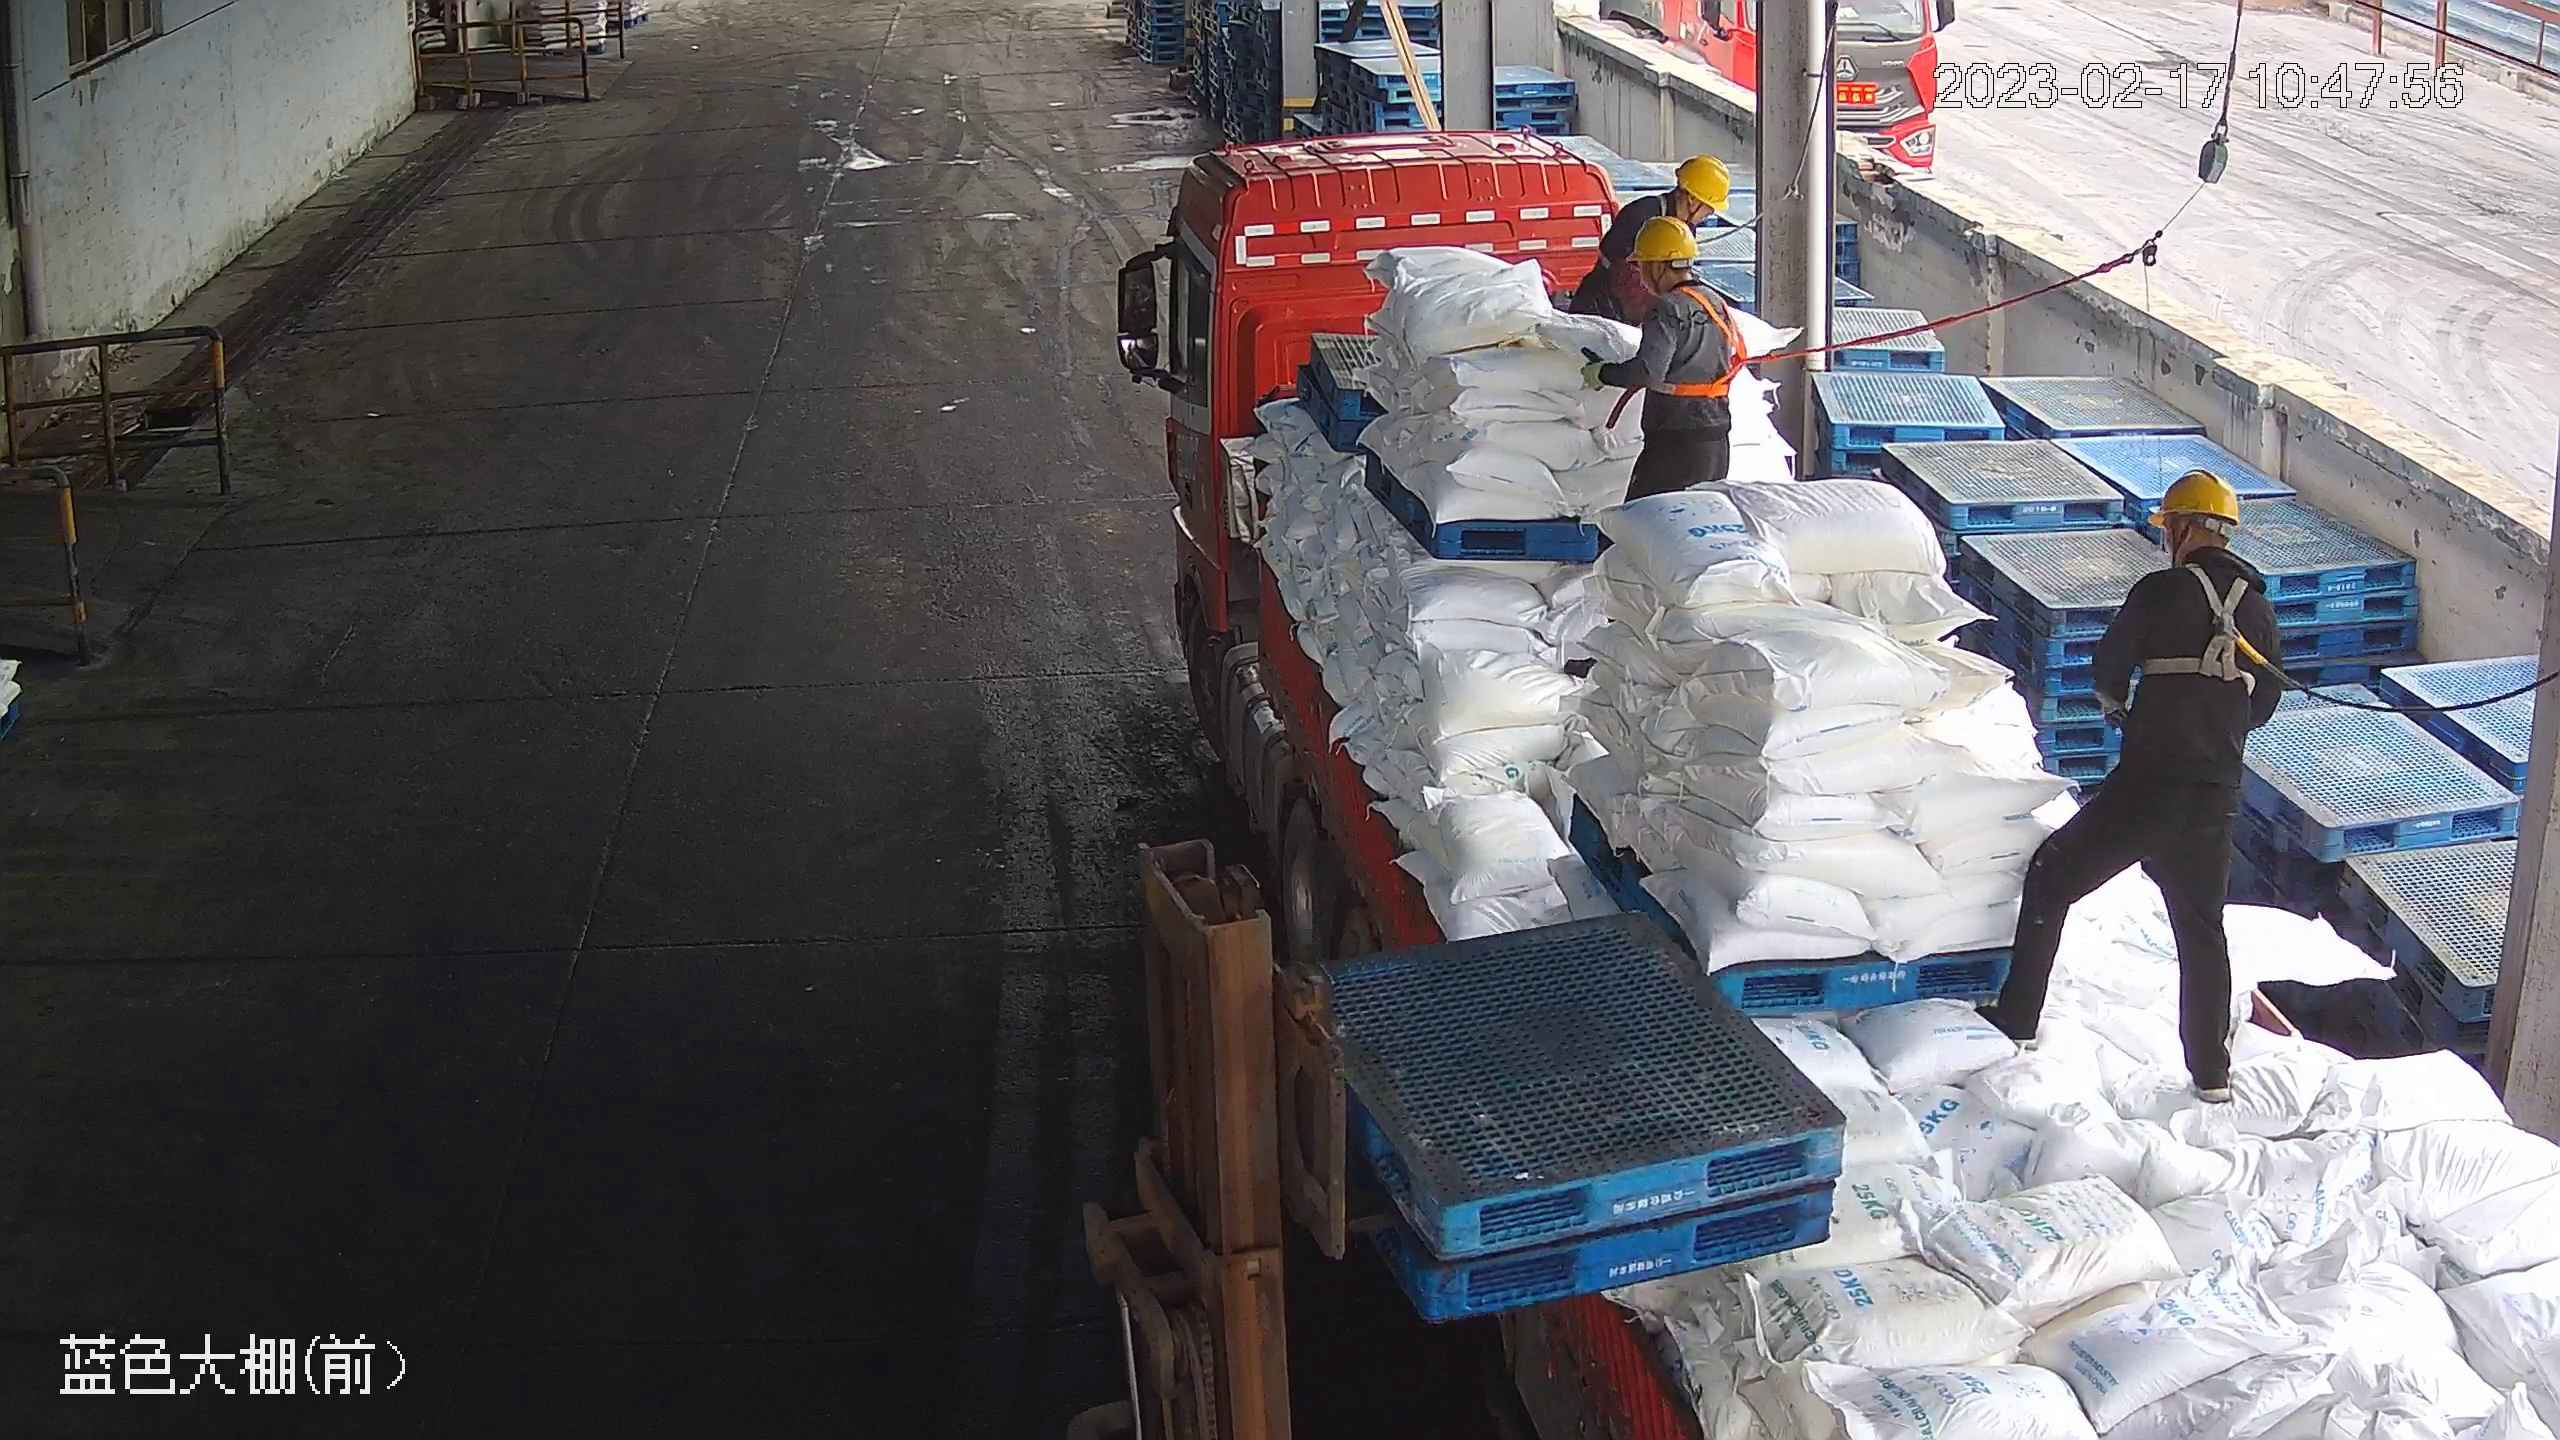belt: (2138, 557, 2273, 687), (1658, 281, 1751, 399)
head: (2118, 468, 2281, 624), (1626, 217, 1735, 347), (1612, 153, 1730, 243)
helmet: (2144, 467, 2240, 533), (1624, 213, 1698, 262), (1675, 152, 1730, 212)
people: (1975, 463, 2292, 1099), (1599, 215, 1744, 499)
truck: (1110, 117, 2560, 1440)
